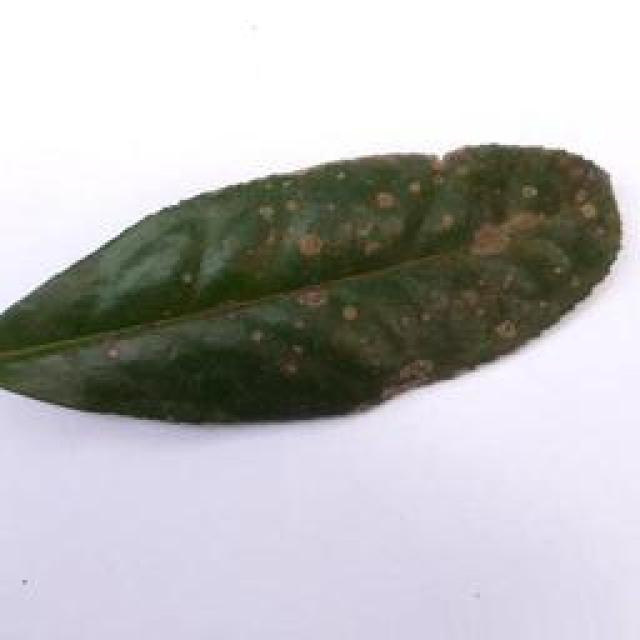Algal Leaf Spot: (0, 138, 622, 452)
